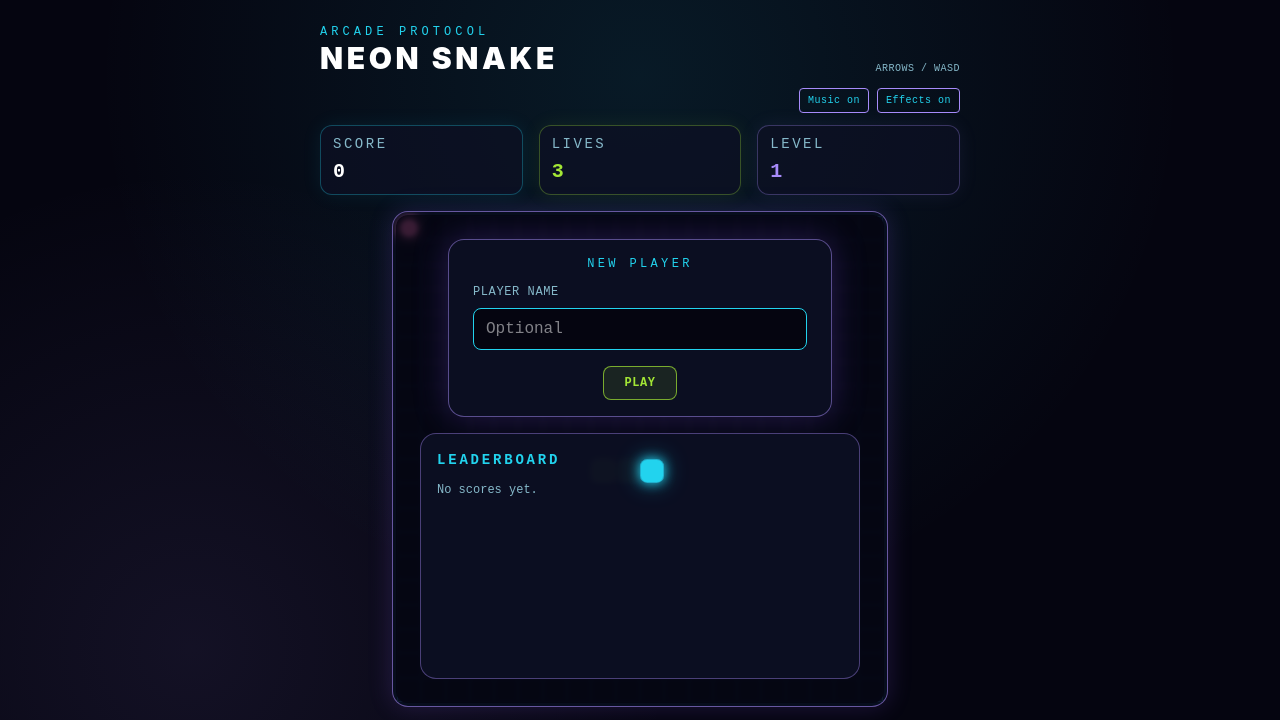
Test: Game › render › generates a player name when the optional name is empty
Expected: the field labelled "Player name" is shown, [473,308,807,350]
Click the button "Play". click: (640, 383)
box: [603,366,677,400]
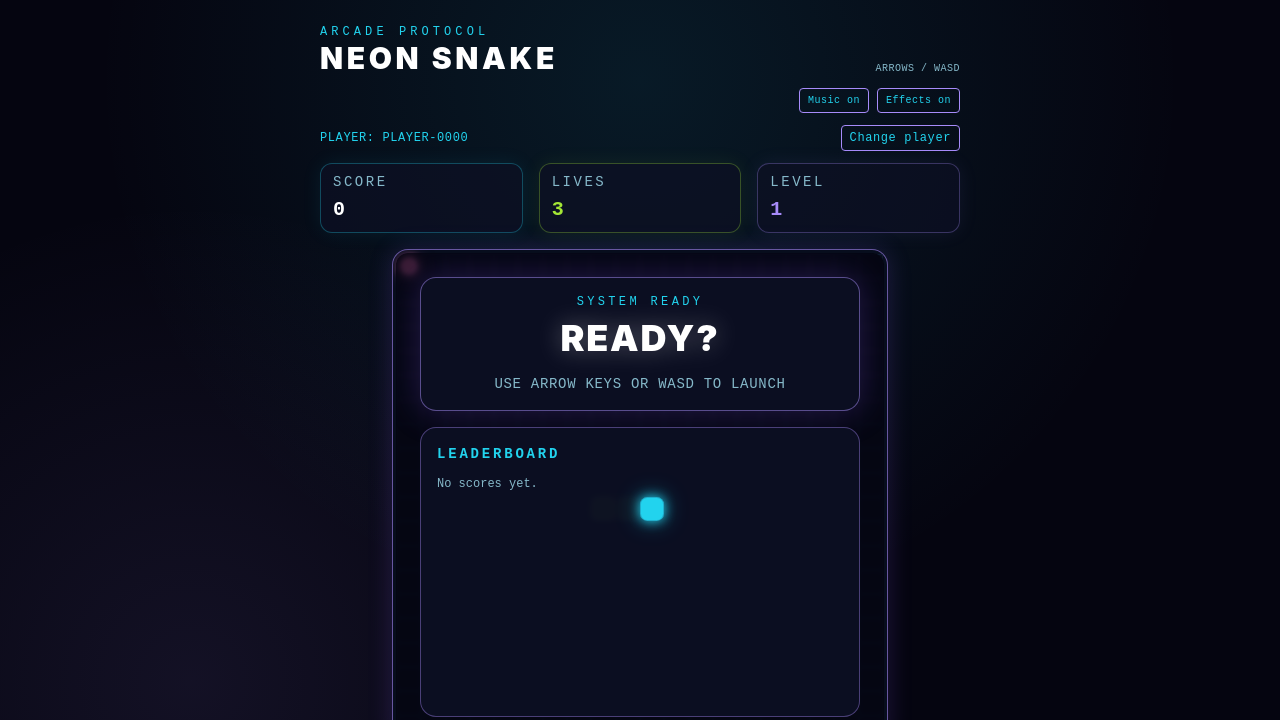
Expected: the text "Player: Player-0000" is shown, [320,130,468,146]
Expected: the heading "Ready?" is shown, [560,316,720,360]
